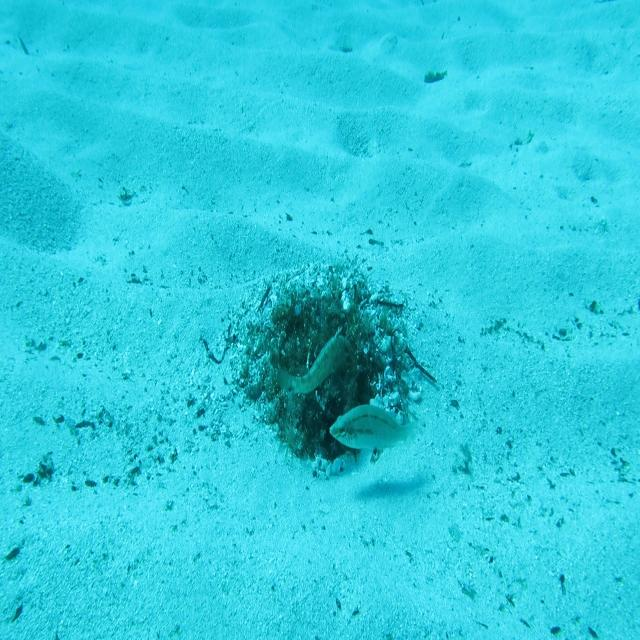ROLL: (273, 323, 353, 399)
core_nest: (298, 309, 342, 356)
female: (326, 400, 426, 458)
nest: (215, 243, 430, 498)
vegetation: (423, 68, 448, 85)
